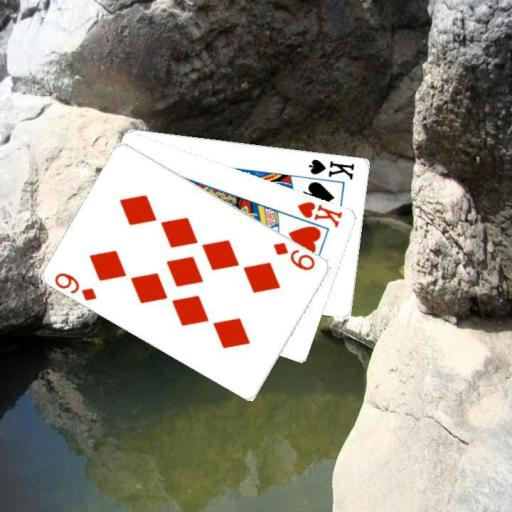9D: (51, 269, 99, 302), (270, 239, 317, 272)
KH: (295, 198, 345, 229)
KS: (306, 155, 356, 181)
